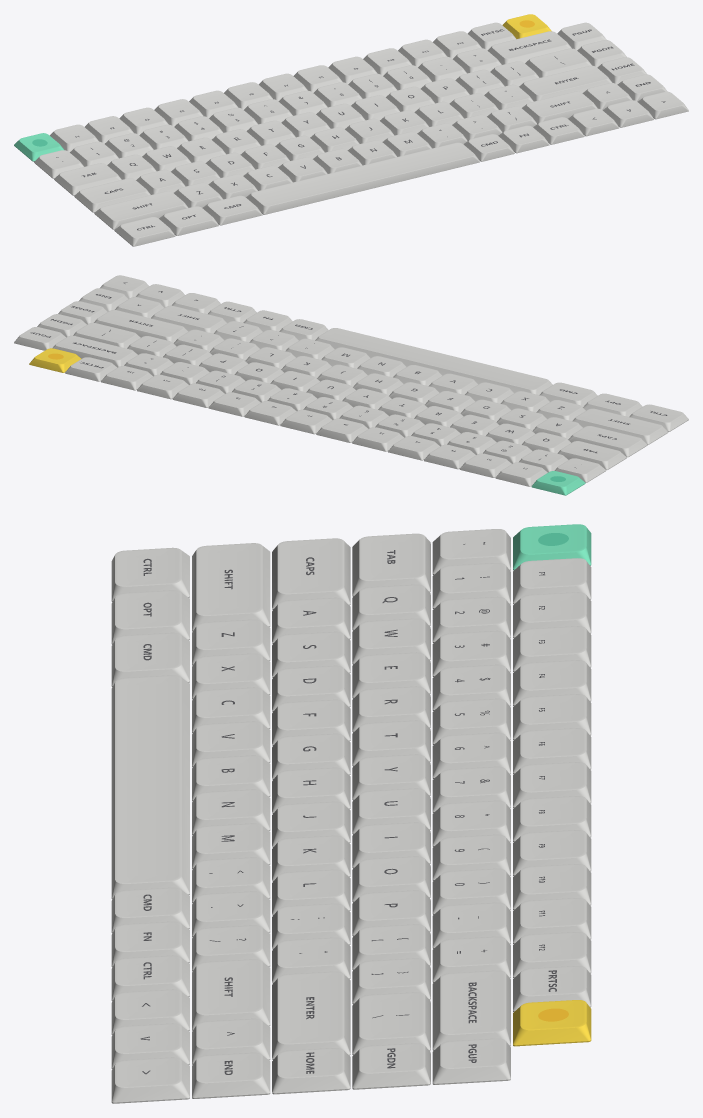
Rendered from keyboard-keycaps.glb.
3 renders of one model, top to bottom at view 1: azimuth 30°, elevation 25°; view 2: azimuth 150°, elevation 25°; view 3: azimuth 270°, elevation 25°, orthographic. The views are drawn at different scales.
Visible parts, largest first — view 1: WEB_Keyboard - Keycaps; view 2: WEB_Keyboard - Keycaps; view 3: WEB_Keyboard - Keycaps.
Part boxes in pixels (x1,y1,x2,y2): WEB_Keyboard - Keycaps: (14,14,688,246); WEB_Keyboard - Keycaps: (14,275,688,495); WEB_Keyboard - Keycaps: (111,524,591,1103).
Bounding box in the file's own units: 0.3036 × 0.0106 × 0.1133.
